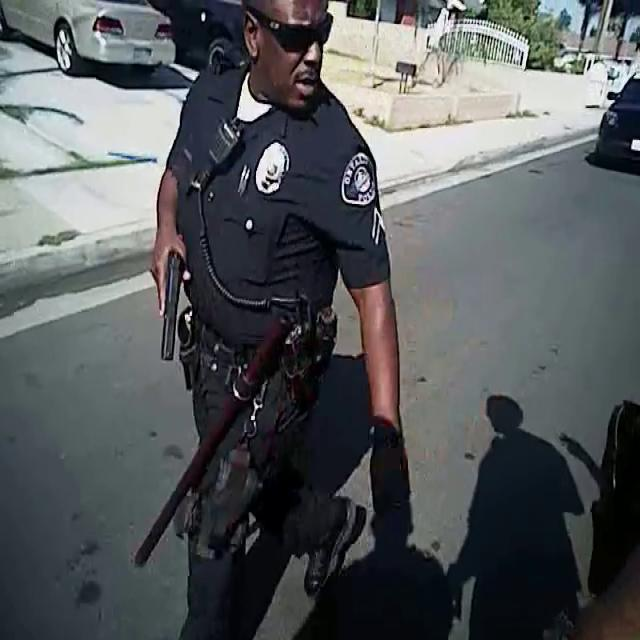gun: (143, 230, 199, 373)
